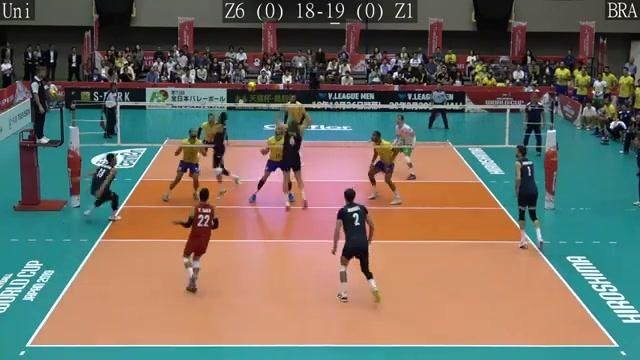ball: (246, 80, 258, 89)
